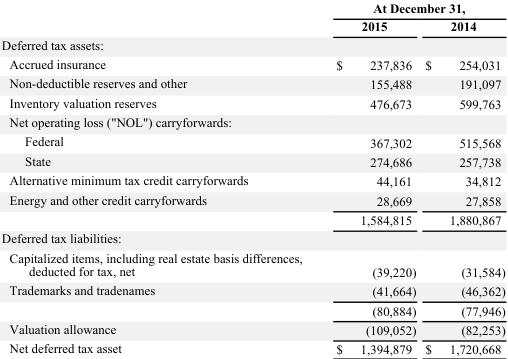table: (0, 0, 504, 356)
table column: (0, 0, 318, 356), (318, 0, 420, 356), (420, 0, 504, 356)
table column header: (0, 0, 504, 35)
table projected row header: (0, 112, 504, 131), (0, 228, 504, 247), (0, 35, 504, 53)
table row: (0, 247, 504, 280), (0, 53, 504, 73), (0, 73, 504, 93), (0, 131, 504, 151), (0, 170, 504, 190), (0, 190, 504, 210), (0, 280, 504, 300), (0, 16, 504, 35), (0, 93, 504, 112), (0, 112, 504, 131), (0, 151, 504, 170), (0, 228, 504, 247), (0, 300, 504, 319), (0, 319, 504, 338), (0, 35, 504, 53), (0, 210, 504, 228), (0, 338, 504, 356), (0, 0, 504, 16)
table spanning cell: (318, 0, 504, 16)
